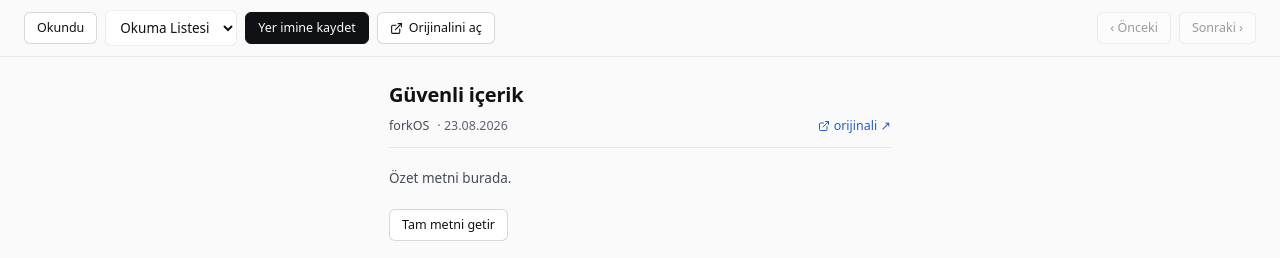
it: RSS tam metin › null dönünce bilgi notu görünür, özet kalır
Click the button "Tam metni getir".
click(448, 225)  # box [389,209,508,241]
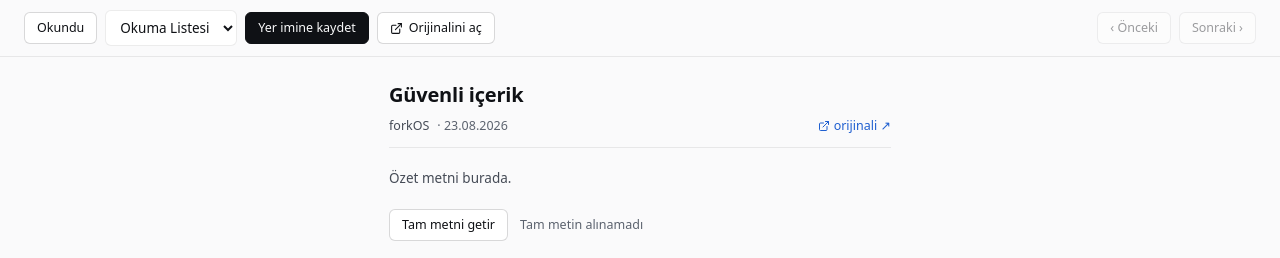
Expected: the text "Özet metni burada." is shown, [389,168,511,186]
Expected: the text "Tam metin alınamadı" is shown, [520,216,643,234]
